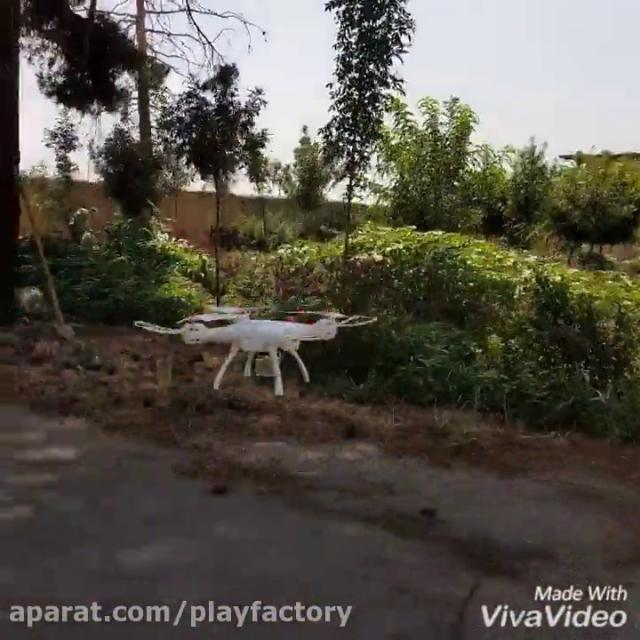drone: (134, 300, 380, 394)
